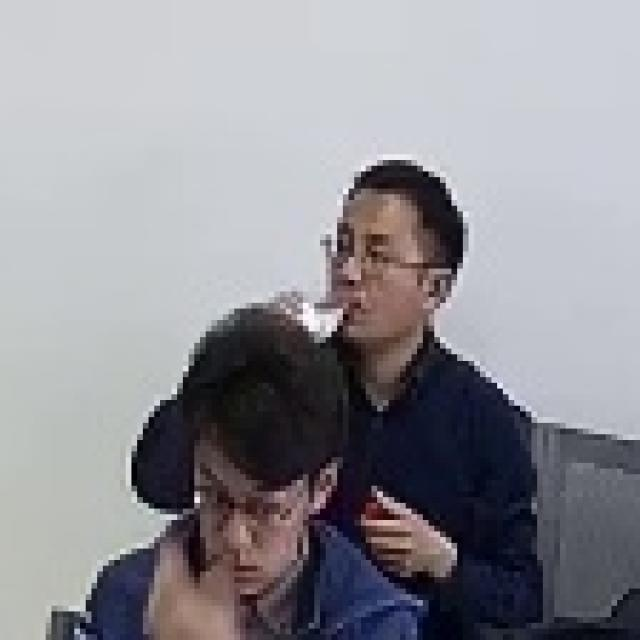drink: (275, 145, 538, 640)
trance: (117, 306, 386, 640)
